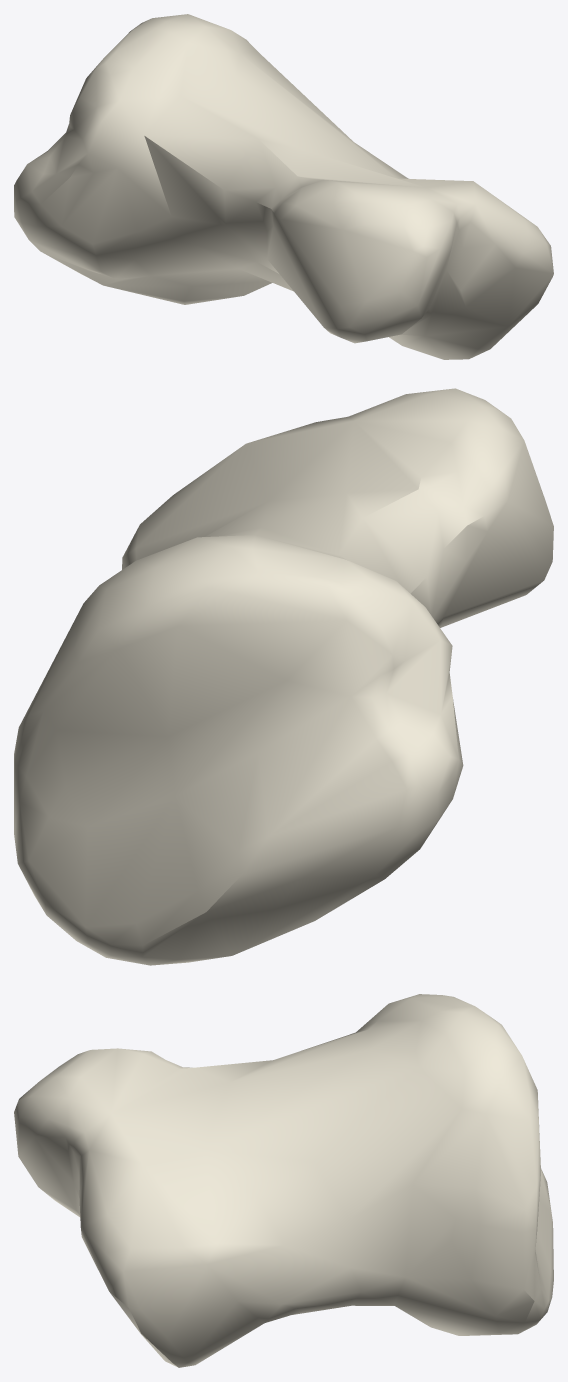
The model's file is fma32647.glb.
3 views of the same model, one above another, from view 1: azimuth 30°, elevation 25°; view 2: azimuth 150°, elevation 25°; view 3: azimuth 270°, elevation 25° (orthographic). The views are drawn at different scales.
Visible parts, largest first — view 1: FMA32647; view 2: FMA32647; view 3: FMA32647.
Part boxes in pixels (x1,y1,x2,y2): FMA32647: (14,14,553,359); FMA32647: (14,388,553,965); FMA32647: (14,994,553,1367).
Size of the model in its own units: 0.0108 by 0.00808 by 0.0136.
